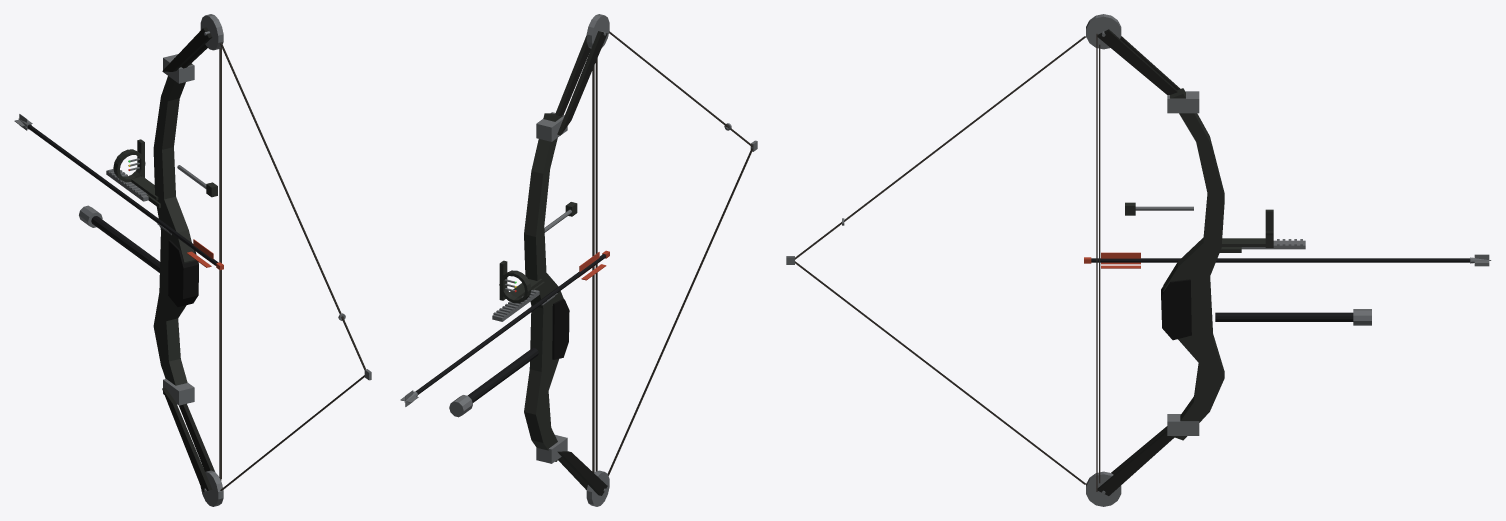
The model's file is compound_bow.glb.
3 renders of one model, left to right at view 1: azimuth 30°, elevation 25°; view 2: azimuth 150°, elevation 25°; view 3: azimuth 270°, elevation 25°, orthographic.
Visible parts, largest first — view 1: compound_bow, Arrow, String, IronSight; view 2: compound_bow, Arrow, String, IronSight; view 3: compound_bow, Arrow, String.
Part boxes in pixels (left/top/right/bottom): compound_bow: left=79, top=14, right=223, bottom=506; Arrow: left=14, top=114, right=223, bottom=270; String: left=220, top=43, right=371, bottom=490; IronSight: left=113, top=139, right=158, bottom=200; compound_bow: left=449, top=14, right=609, bottom=506; Arrow: left=400, top=250, right=609, bottom=406; String: left=607, top=31, right=757, bottom=475; IronSight: left=499, top=260, right=542, bottom=303; compound_bow: left=1086, top=14, right=1371, bottom=506; Arrow: left=1084, top=252, right=1491, bottom=268; String: left=786, top=36, right=1086, bottom=484.
Bounding box in the file's own units: 0.067 × 1.02 × 1.33.
